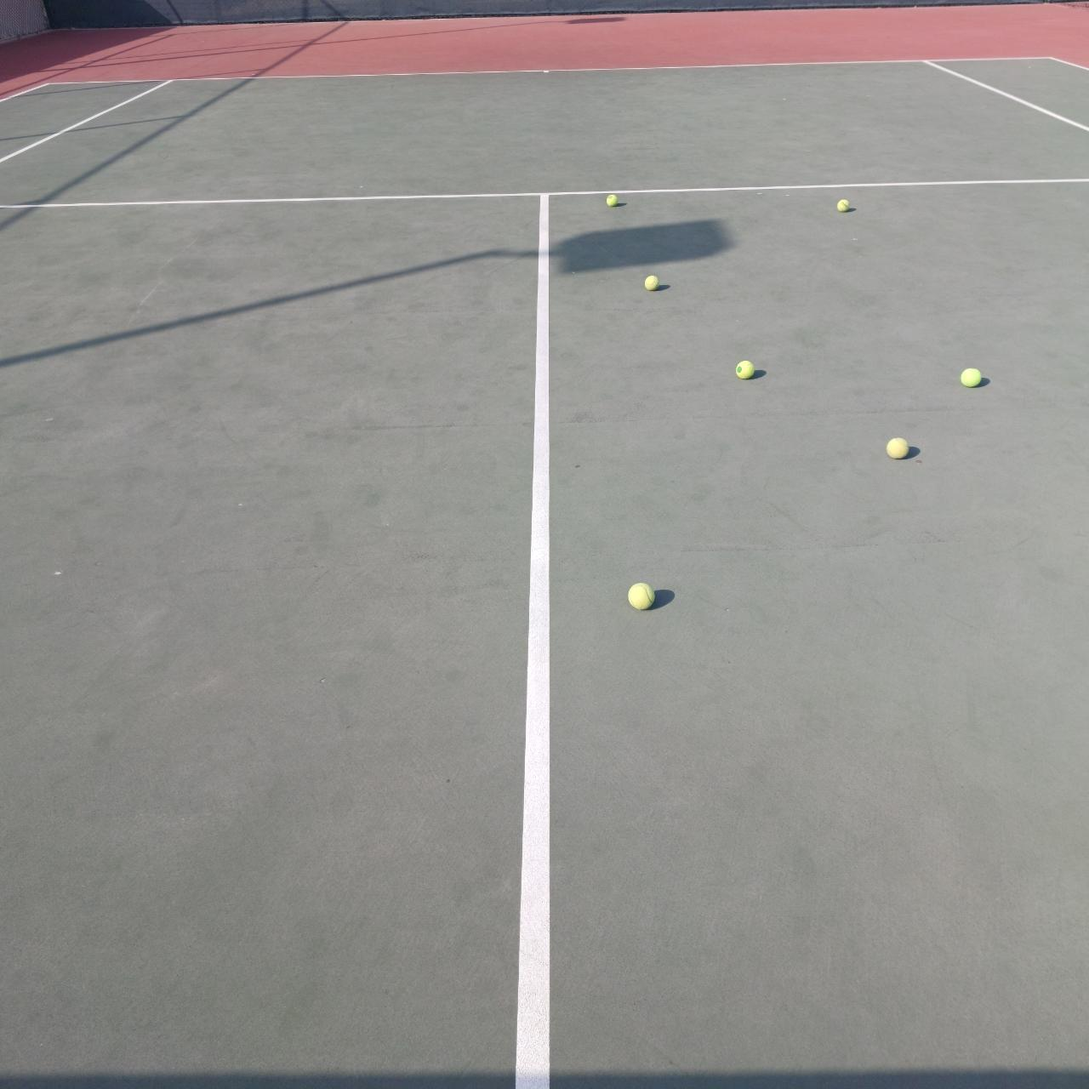tennis-ball: (628, 579, 656, 610), (887, 435, 910, 459), (961, 365, 984, 387), (735, 357, 755, 379), (837, 197, 852, 212), (645, 275, 659, 290), (606, 194, 618, 207)
